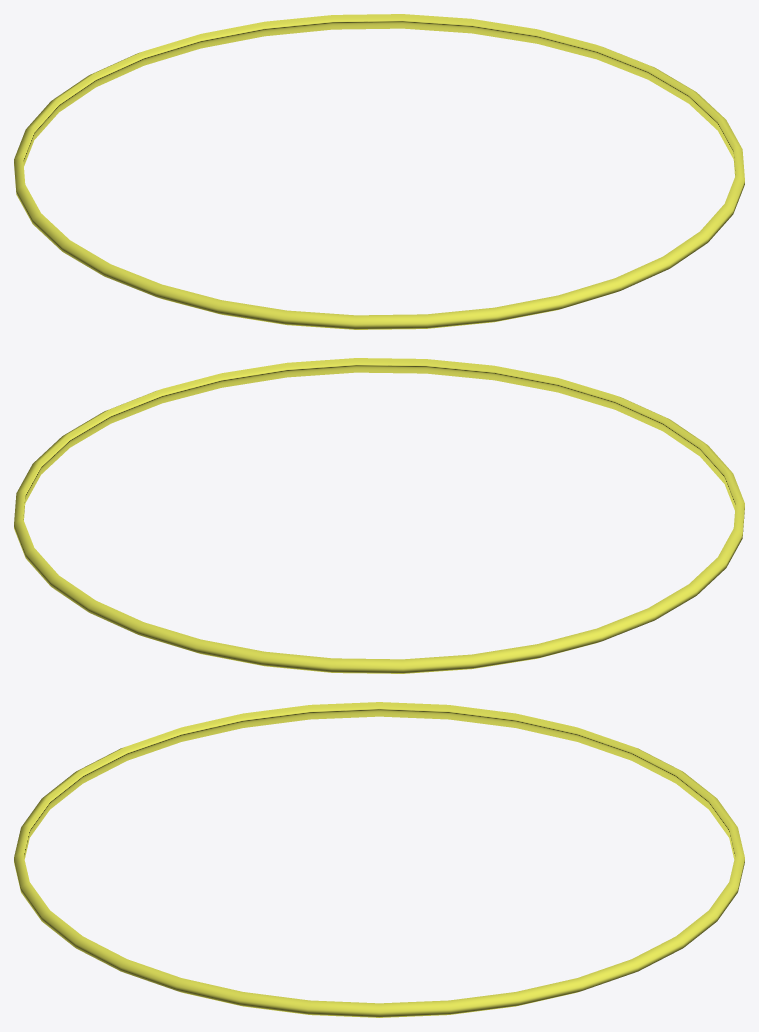
3 renders of one model, top to bottom at view 1: azimuth 30°, elevation 25°; view 2: azimuth 150°, elevation 25°; view 3: azimuth 270°, elevation 25°, orthographic.
Parts seen in each view (by area): view 1: Окружность.002; view 2: Окружность.002; view 3: Окружность.002.
Part boxes in pixels (left/top/right/bottom): Окружность.002: left=14, top=14, right=744, bottom=329; Окружность.002: left=14, top=358, right=744, bottom=673; Окружность.002: left=14, top=702, right=744, bottom=1017.
Size of the model in its own units: 3.85 by 0.0851 by 3.85.
